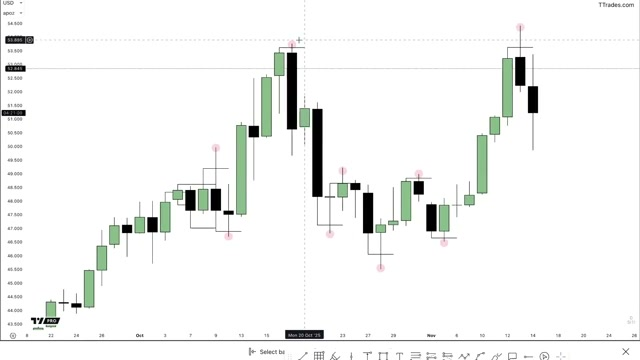liquidity_sweep_high: (304, 31, 336, 56), (509, 128, 541, 153)
liquidity_sweep_low: (368, 205, 400, 234)
